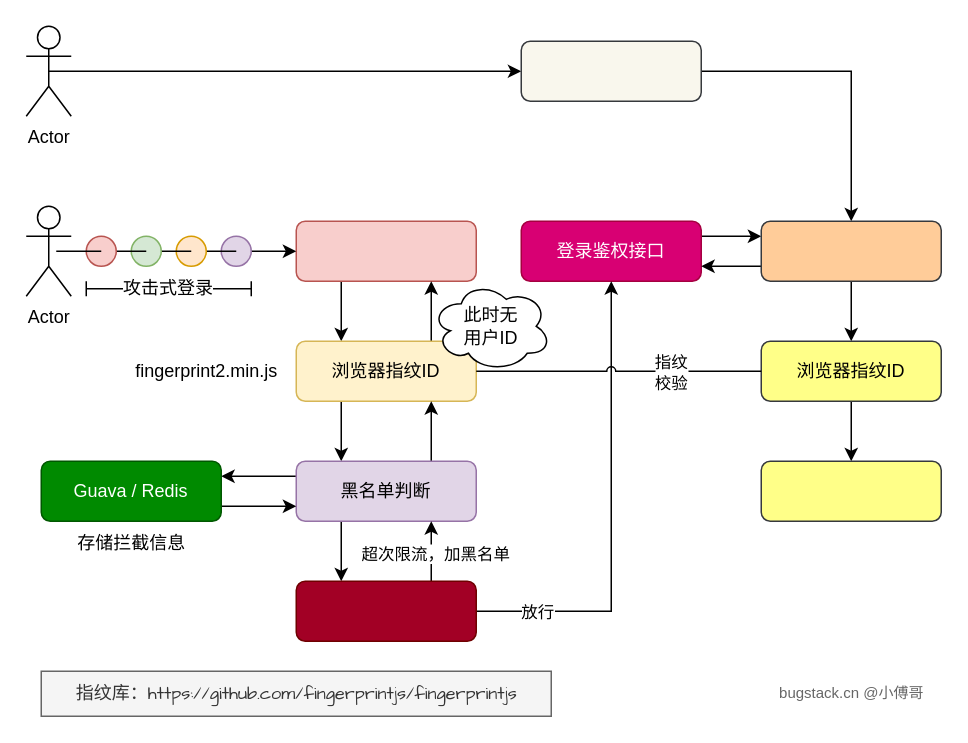
The diagram is 968 pixels wide and 743 high, and some of its shapes have lost their labels. Each missing label, with the centre of its shape:
"AOP 切面" goes at point 385,250.
"指纹 + 验证码" goes at point 850,490.
"生成验证码接口" goes at point 610,70.
"限流判断" goes at point 385,610.
"验证码存储" goes at point 850,250.
